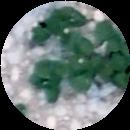Basil: (31, 14, 62, 45), (108, 56, 129, 89), (100, 21, 123, 51), (66, 64, 90, 91), (58, 6, 86, 28), (88, 55, 116, 76), (34, 60, 59, 80), (67, 34, 90, 54), (42, 83, 57, 105)
